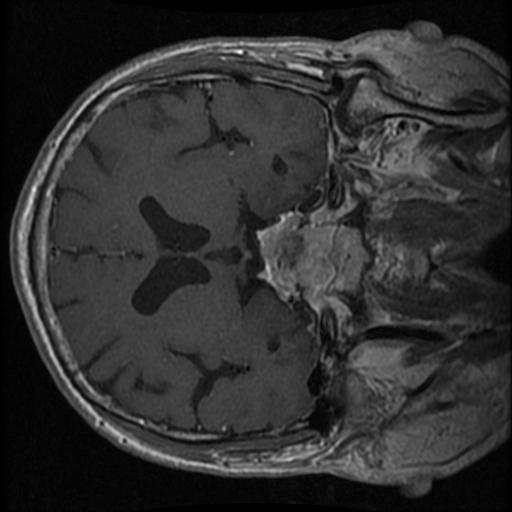pituitary tumour: (256, 210, 301, 300)
